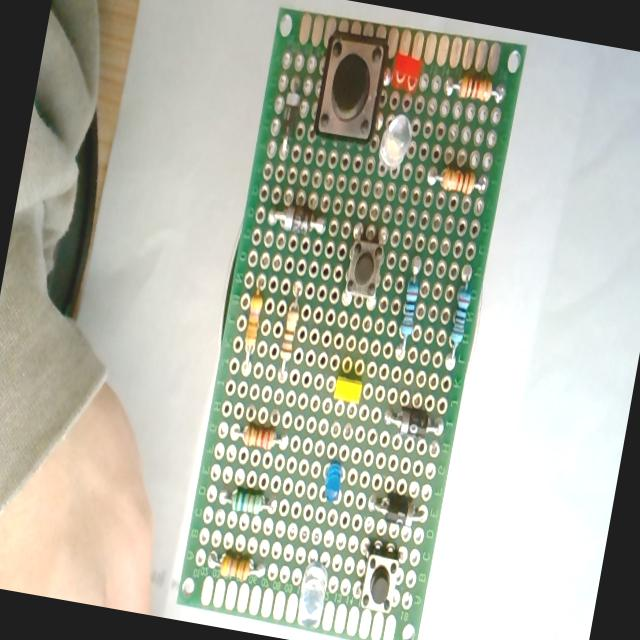diode: (367, 491, 425, 530), (382, 404, 442, 441), (268, 200, 328, 237), (274, 94, 302, 160)
led: (374, 110, 416, 174), (294, 560, 330, 630), (388, 50, 424, 94), (318, 460, 346, 507), (332, 374, 364, 405)
resistor: (275, 285, 304, 381), (443, 283, 473, 368), (205, 548, 268, 583), (238, 292, 264, 374), (394, 280, 421, 358), (428, 162, 487, 196), (444, 71, 502, 104), (218, 484, 276, 516), (242, 423, 279, 451)
switch: (311, 28, 392, 148), (356, 544, 402, 614), (343, 234, 386, 300)
